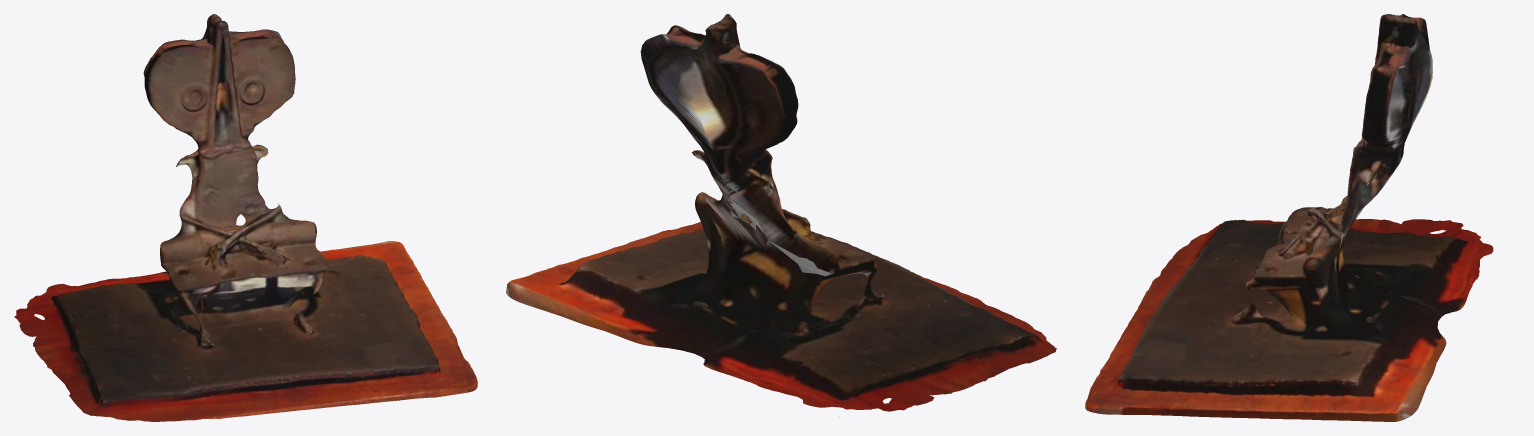
The model's file is preview.glb.
3 renders of one model, left to right at view 1: azimuth 30°, elevation 25°; view 2: azimuth 150°, elevation 25°; view 3: azimuth 270°, elevation 25°, orthographic. The views are drawn at different scales.
Parts seen in each view (by area): view 1: Object_2; view 2: Object_2; view 3: Object_2.
Boxes of the visible parts, bbox=[...] form: Object_2: bbox=[14, 14, 477, 421]; Object_2: bbox=[506, 14, 1056, 416]; Object_2: bbox=[1085, 14, 1493, 421].
Bounding box in the file's own units: 22.88 × 16.59 × 19.68.
1 material, 1 textured.
